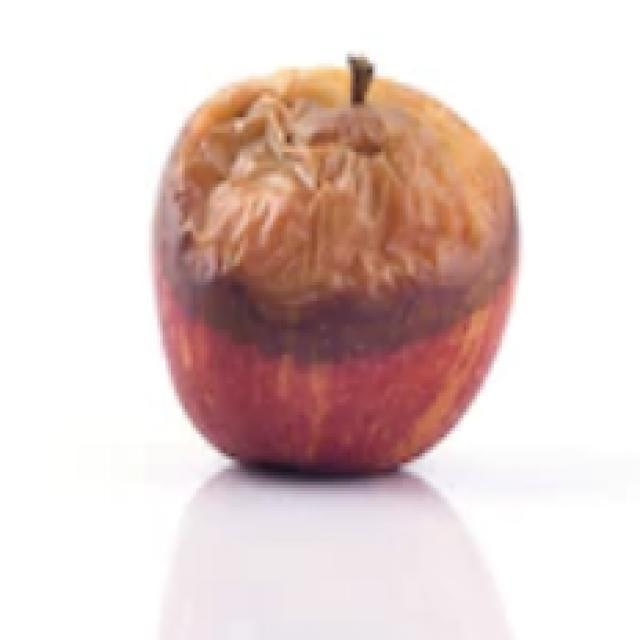Rotten: (145, 57, 518, 478)
